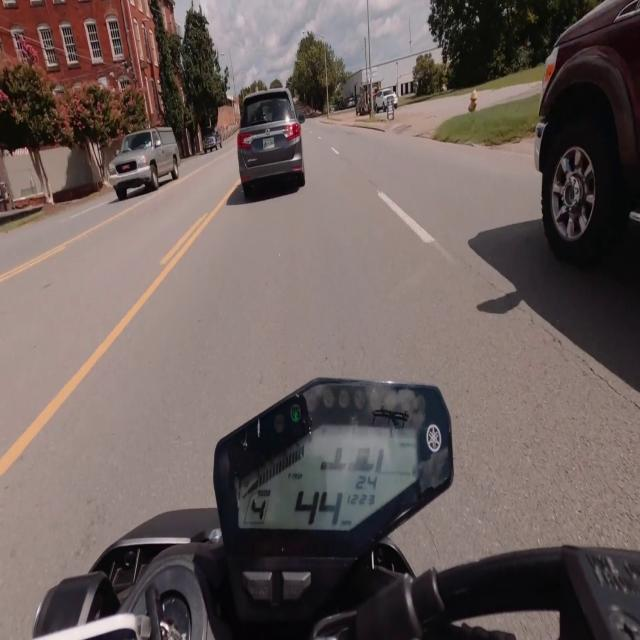car: (535, 0, 639, 264), (237, 89, 304, 197), (109, 128, 179, 200), (374, 89, 397, 112), (203, 128, 221, 152)
motorcycle: (33, 380, 639, 639)
